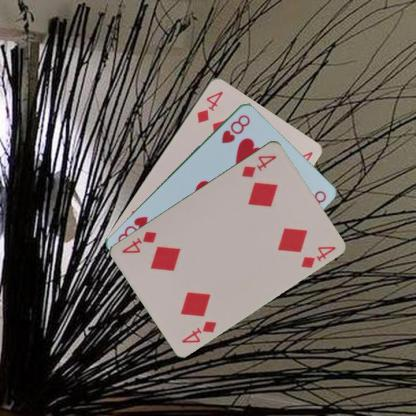4d: (194, 88, 224, 124), (239, 152, 278, 178), (179, 318, 218, 344)
8h: (219, 112, 251, 145)
